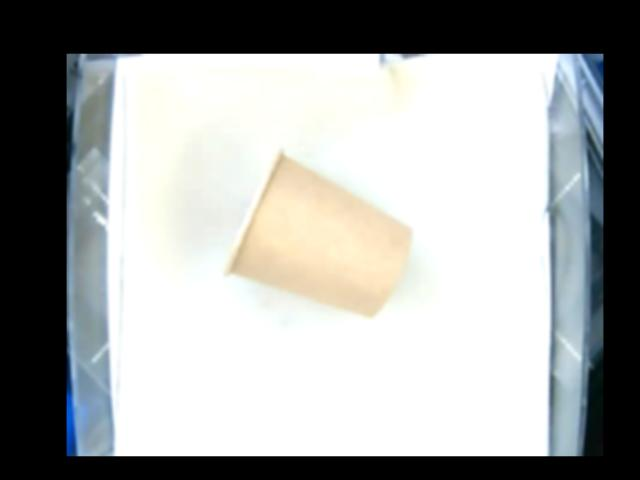Cup: (224, 150, 414, 317)
